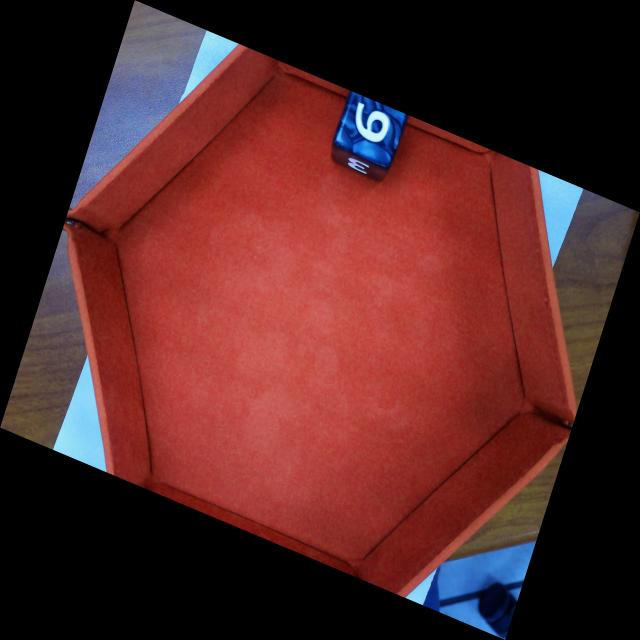dice: (336, 91, 407, 166)
